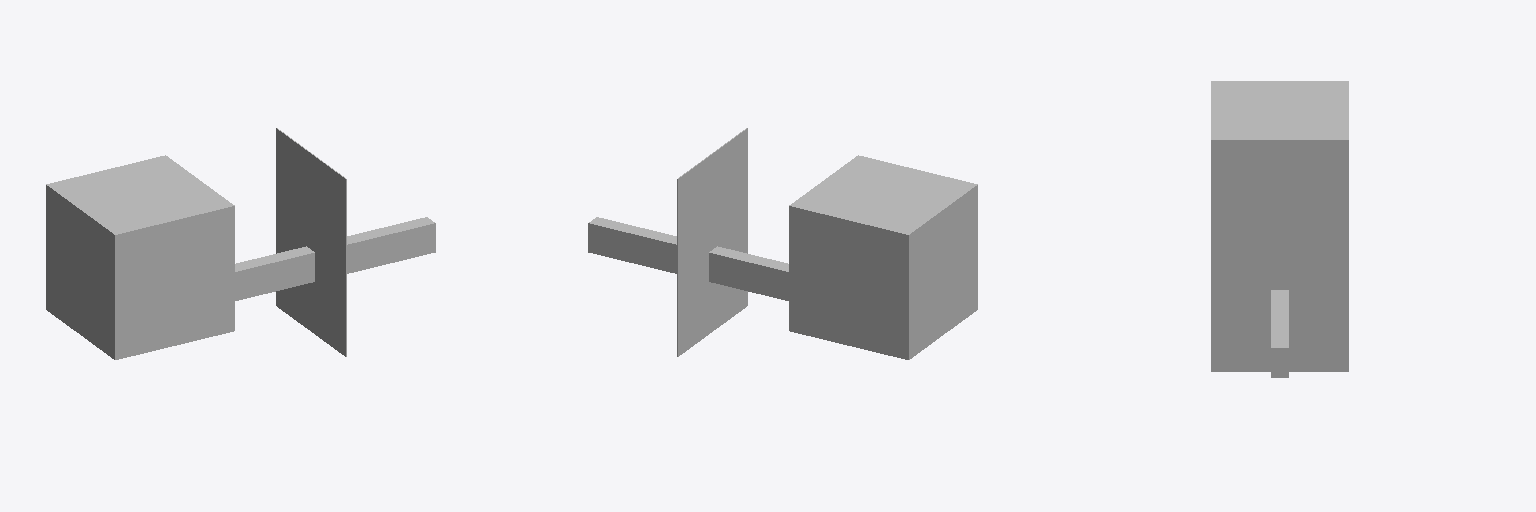
Rendered from godcube.obj.
3 renders of one model, left to right at view 1: azimuth 30°, elevation 25°; view 2: azimuth 150°, elevation 25°; view 3: azimuth 270°, elevation 25°, orthographic.
Visible parts, largest first — view 1: entity19_brush4, entity19_brush5, entity0_brush12, entity0_brush13, entity0_brush4, entity0_brush3, entity0_brush9, entity28_brush2, entity0_brush5, entity0_brush14; view 2: entity19_brush3, entity19_brush5, entity0_brush13, entity0_brush12, entity0_brush3, entity0_brush4, entity0_brush8, entity28_brush1, entity0_brush5, entity0_brush14; view 3: entity0_brush12, entity0_brush13, entity19_brush5, entity19_brush0, entity19_brush1, entity0_brush14, entity19_brush2.
Part boxes in pixels (x1,y1,x2,y2): entity19_brush4: (117, 206, 232, 359); entity19_brush5: (50, 157, 231, 233); entity0_brush12: (314, 156, 346, 356); entity0_brush13: (276, 128, 307, 328); entity0_brush4: (84, 212, 116, 359); entity0_brush3: (46, 184, 76, 330); entity0_brush9: (235, 252, 314, 300); entity28_brush2: (390, 222, 435, 262); entity0_brush5: (76, 206, 84, 336); entity0_brush14: (308, 151, 314, 250); entity19_brush3: (791, 206, 906, 359); entity19_brush5: (792, 157, 973, 233); entity0_brush13: (677, 156, 709, 356); entity0_brush12: (716, 128, 747, 328); entity0_brush3: (907, 213, 938, 359); entity0_brush4: (945, 184, 977, 331); entity0_brush8: (709, 252, 788, 300); entity28_brush1: (588, 222, 633, 262); entity0_brush5: (937, 207, 946, 337); entity0_brush14: (709, 151, 715, 250); entity0_brush12: (1211, 194, 1273, 371); entity0_brush13: (1286, 194, 1348, 371); entity19_brush5: (1213, 82, 1346, 138); entity19_brush0: (1286, 139, 1348, 193); entity19_brush1: (1211, 139, 1273, 193); entity0_brush14: (1274, 194, 1285, 289); entity19_brush2: (1274, 139, 1285, 193).
Bounding box in the file's own units: 6020 × 2920 × 2056.